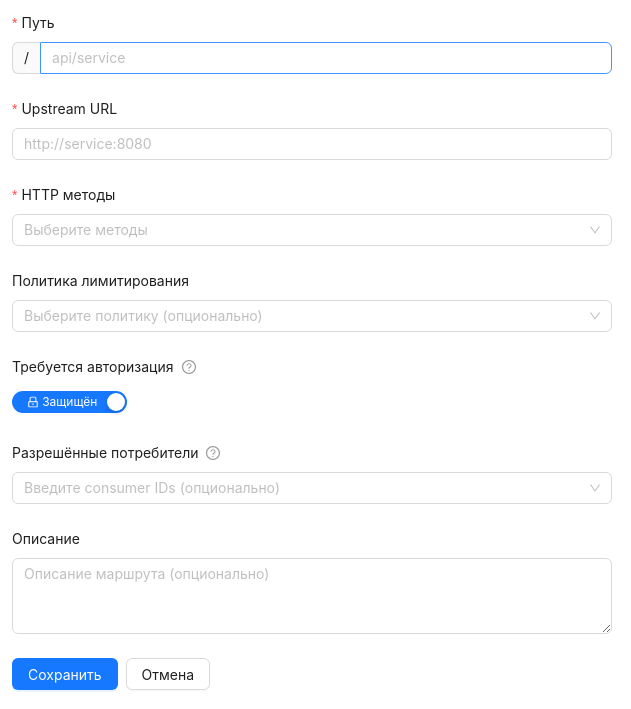
Scenario: поле Rate Limit Policy (Story 5.5) › отображает dropdown с политиками rate limit при клике
Находим и кликаем на Select
Click the dropdown labelled "Политика лимитирования".
click(108, 281)  # box [12,270,203,292]
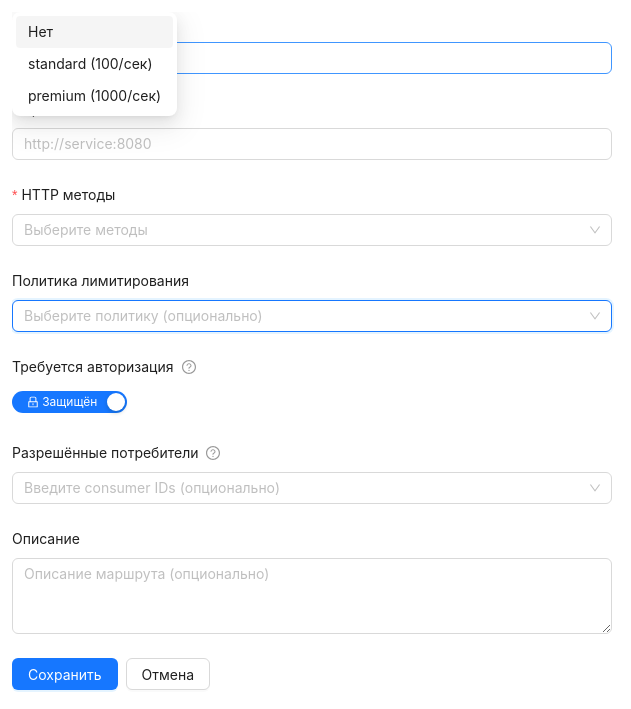
Check: the text "Нет" is shown, box [28,23,53,40]
Check: the text "standard (100/сек)" is shown, box [28,53,161,75]
Check: the text "premium (1000/сек)" is shown, box [28,85,161,107]
